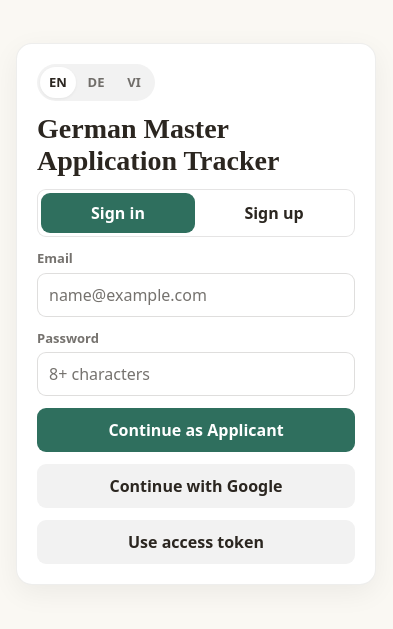
it: rejects invalid applicant email before entering the app
The width and height of the screenshot is (393, 629).
Type "not-an-email" into the field labelled "Email" at (196, 295), box [37,273,355,317]
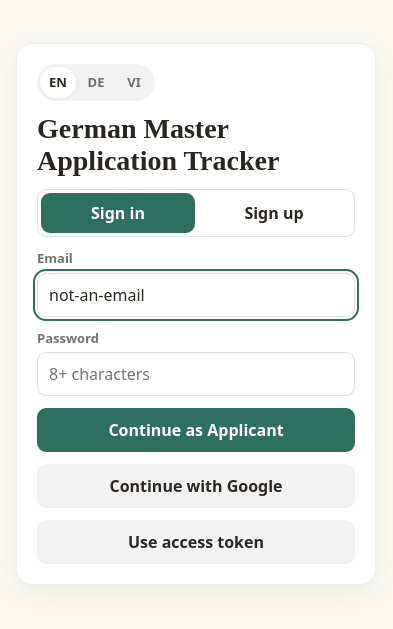
Click the button "Continue as Applicant" at (196, 430), box [37,408,355,452]
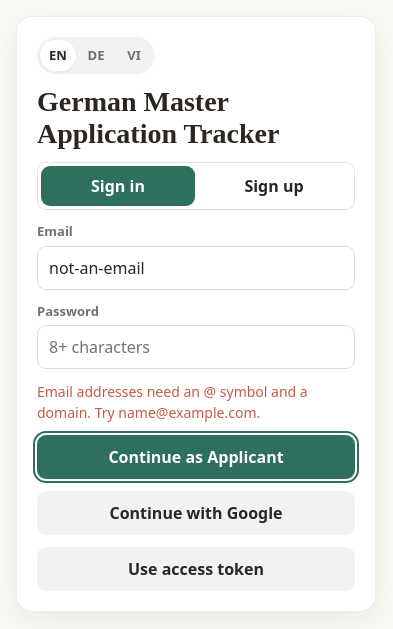
Now the text "Email addresses need an @ symbol and a domain" is shown, box [37,382,308,422]
